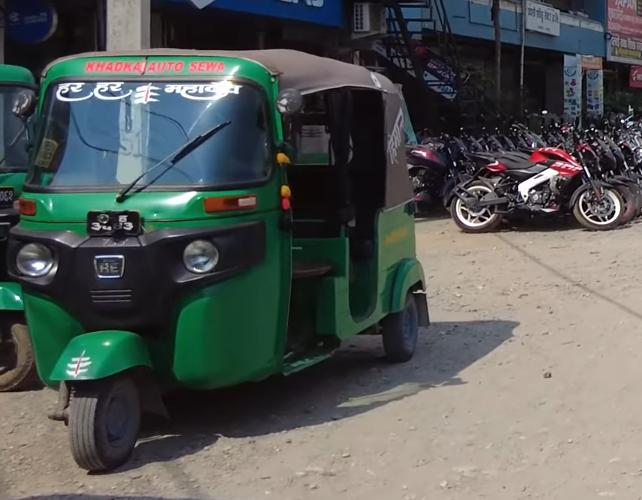auto_rickshaw: (0, 44, 433, 477)
